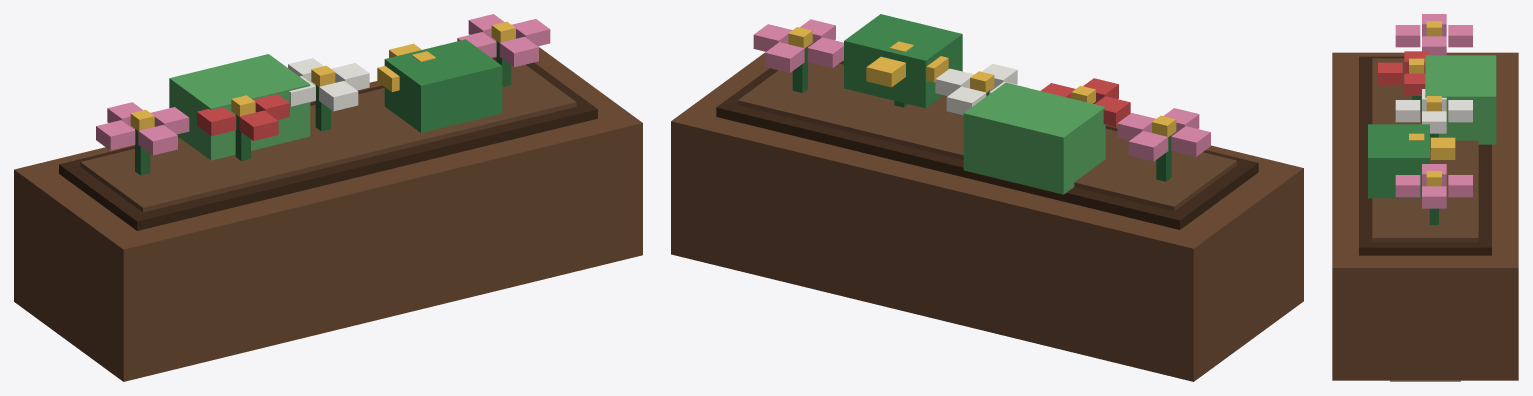
The model's file is vn_deco_cottage_planter.glb.
3 views of the same model, side by side, from view 1: azimuth 30°, elevation 25°; view 2: azimuth 150°, elevation 25°; view 3: azimuth 270°, elevation 25° (orthographic). The views are drawn at different scales.
Visible parts, largest first — view 1: planter_wood, planter_veg; view 2: planter_wood, planter_veg; view 3: planter_wood, planter_veg.
Part boxes in pixels (x1=…): planter_wood: x1=14, y1=46, x2=642, y2=381; planter_veg: x1=96, y1=14, x2=550, y2=175; planter_wood: x1=671, y1=47, x2=1303, y2=381; planter_veg: x1=753, y1=14, x2=1210, y2=194; planter_wood: x1=1332, y1=52, x2=1518, y2=381; planter_veg: x1=1368, y1=14, x2=1496, y2=224.
Size of the model in its own units: 1.15 by 0.4518 by 0.42.
